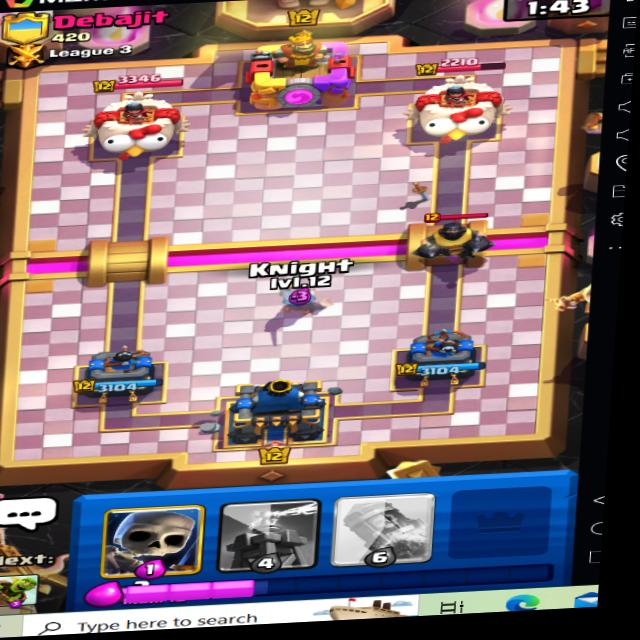mega-knight: (414, 211, 499, 265)
